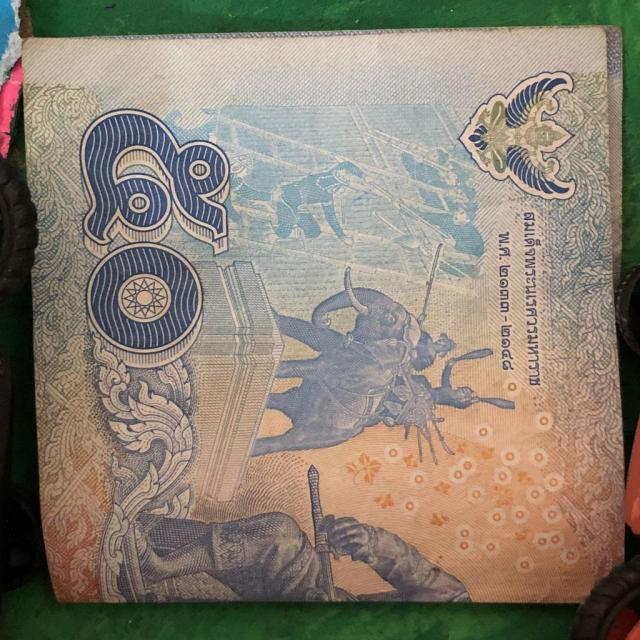THAI50: (22, 26, 622, 603)
